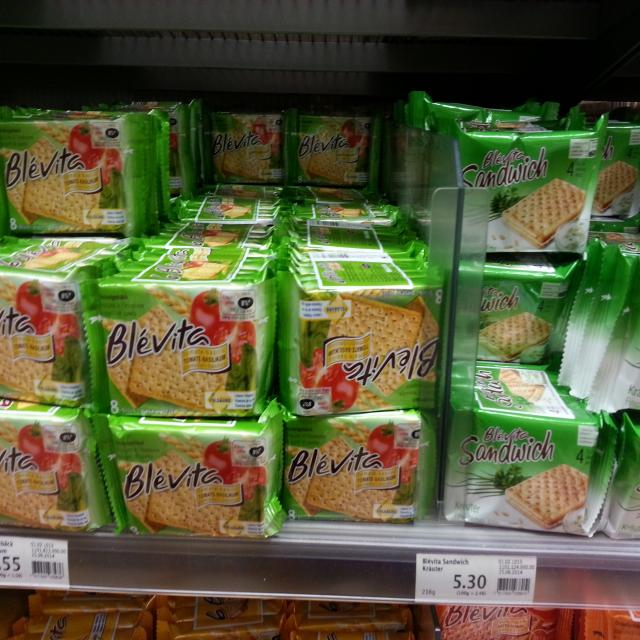Biscuits: (85, 233, 276, 413), (280, 235, 448, 422), (90, 403, 288, 544), (450, 373, 616, 535), (0, 97, 177, 242), (434, 121, 604, 259), (0, 235, 135, 404), (279, 413, 441, 523), (0, 403, 105, 531), (449, 262, 572, 363), (287, 118, 385, 191), (205, 106, 292, 188)
